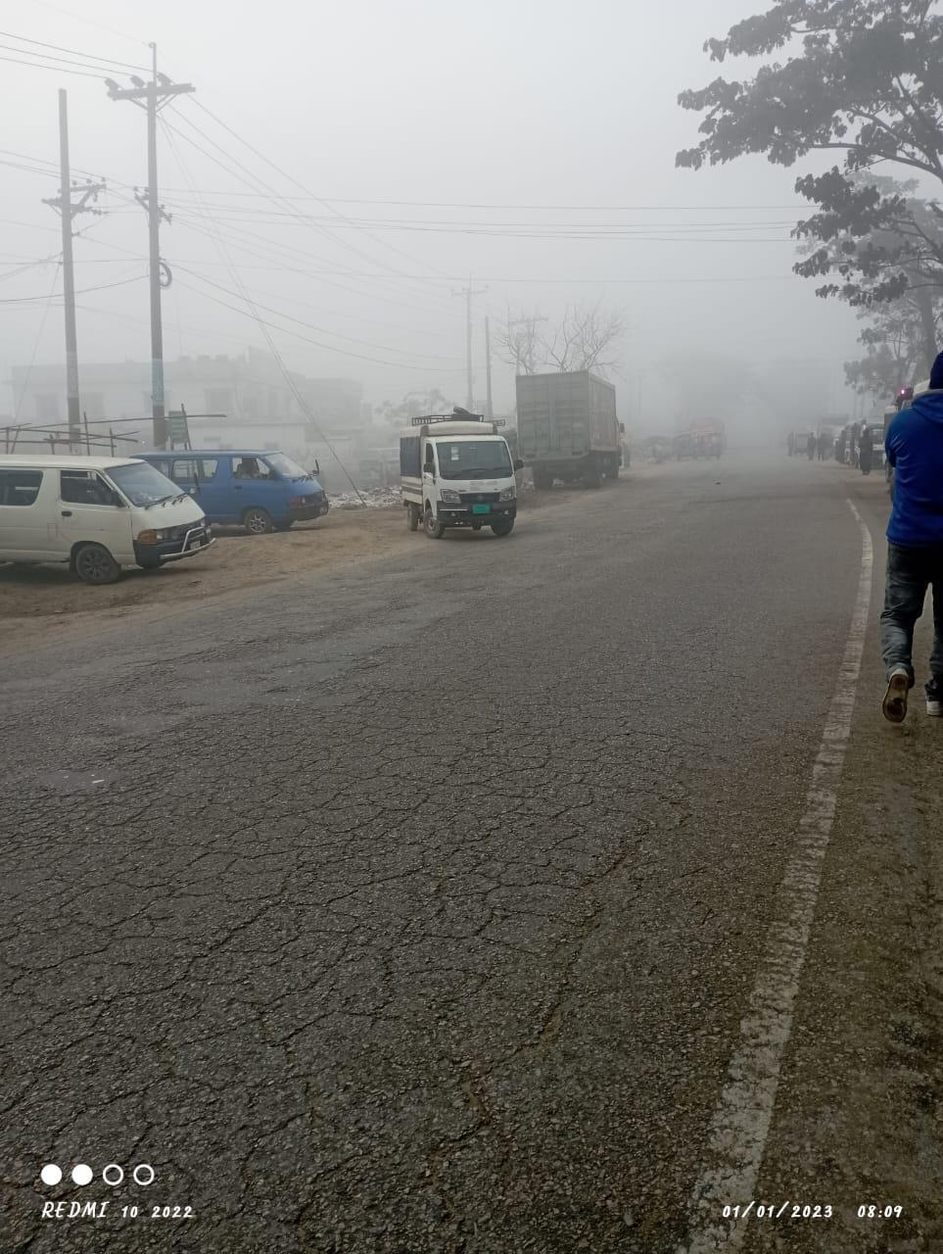Car: (5, 447, 220, 591), (141, 435, 335, 541), (393, 410, 527, 542)
Truck: (507, 363, 637, 498)
